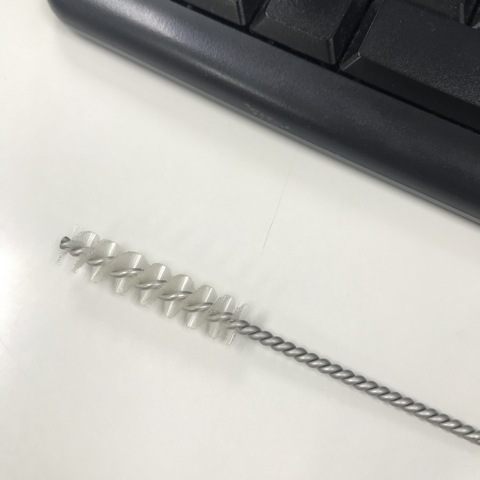Twist Brush-B: (48, 227, 479, 445)
